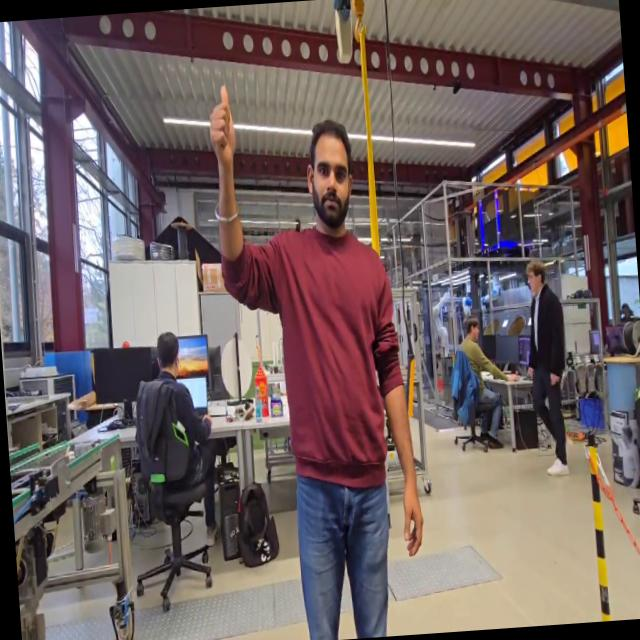thumbs_up: (202, 78, 242, 173)
